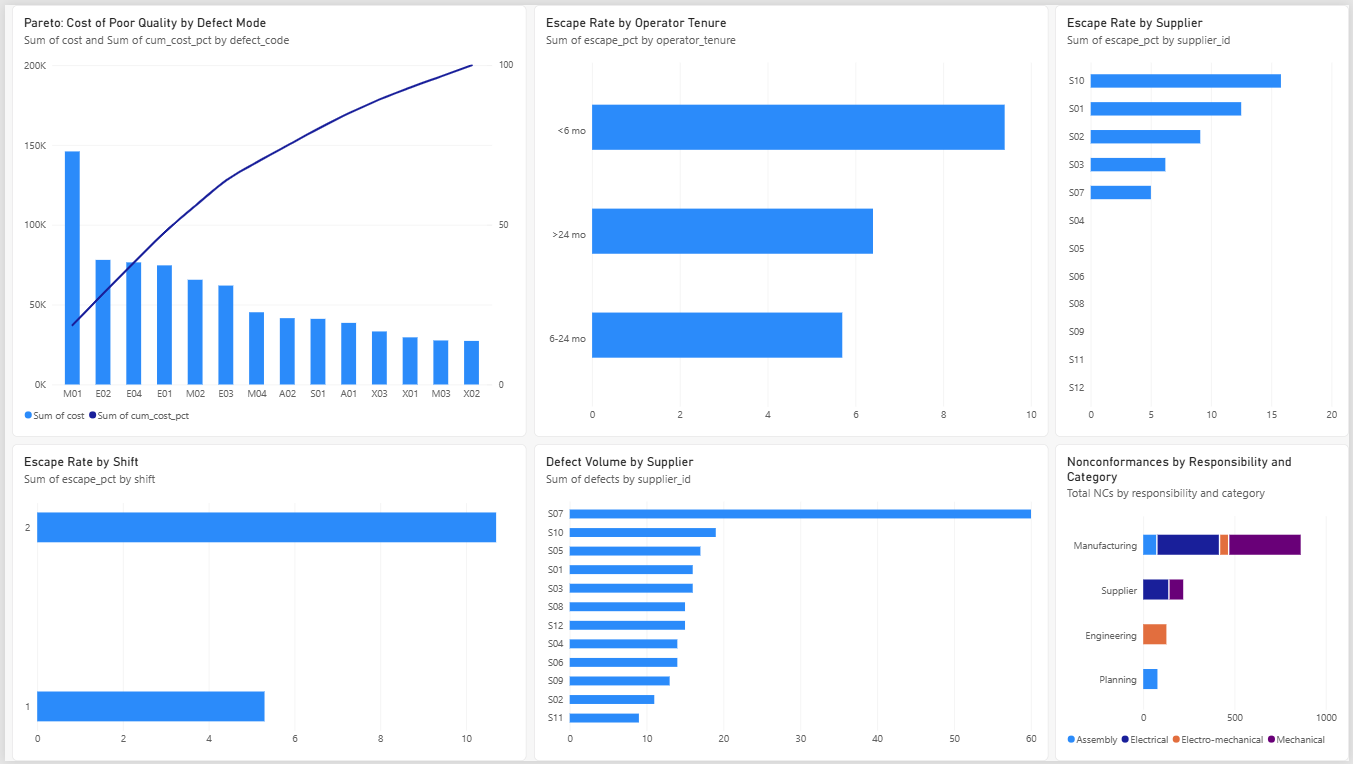

Layout of this report page (visuals, bound fields, positions):
{"tool":"powerbi","page":{"name":"Responsibility","canvas":[1920,1080],"ordinal":2},"visuals":[{"type":"lineStackedColumnComboChart","title":"Pareto: Cost of Poor Quality by Defect Mode","fields":{"Category":["pareto.defect_code"],"Y":["Sum(pareto.cost)"],"Y2":["Sum(pareto.cum_cost_pct)"]},"box":[10.2,0,735.3,617.1],"z":0},{"type":"barChart","title":"Escape Rate by Shift","fields":{"Category":["strat_shift.shift"],"Y":["Sum(strat_shift.escape_pct)"]},"box":[10,627,735,453],"z":1},{"type":"barChart","title":"Escape Rate by Operator Tenure","fields":{"Category":["strat_operator_tenure.operator_tenure"],"Y":["Sum(strat_operator_tenure.escape_pct)"]},"box":[755,0,735,617],"z":2},{"type":"barChart","title":"Defect Volume by Supplier","fields":{"Category":["strat_supplier_id.supplier_id"],"Y":["Sum(strat_supplier_id.defects)"]},"box":[755,627,735,453],"z":3},{"type":"barChart","title":"Escape Rate by Supplier","fields":{"Category":["strat_supplier_id.supplier_id"],"Y":["Sum(strat_supplier_id.escape_pct)"]},"box":[1500,0,420,617],"z":4},{"type":"barChart","title":"Nonconformances by Responsibility and Category","fields":{"Category":["nonconformances.responsibility"],"Series":["nonconformances.category"],"Y":["nonconformances.Total NCs"]},"box":[1500,627,420,453],"z":5}]}

Visuals, with their boxes in screenshot pixels (x1, y1, x2, y2), scaled from the page's 1920x1080 canvas onto the 1353x764 screenshot:
"Pareto: Cost of Poor Quality by Defect Mode" lineStackedColumnComboChart: <box>7,0,525,437</box>
"Escape Rate by Shift" barChart: <box>7,444,525,763</box>
"Escape Rate by Operator Tenure" barChart: <box>532,0,1050,436</box>
"Defect Volume by Supplier" barChart: <box>532,444,1050,763</box>
"Escape Rate by Supplier" barChart: <box>1057,0,1352,436</box>
"Nonconformances by Responsibility and Category" barChart: <box>1057,444,1352,763</box>
